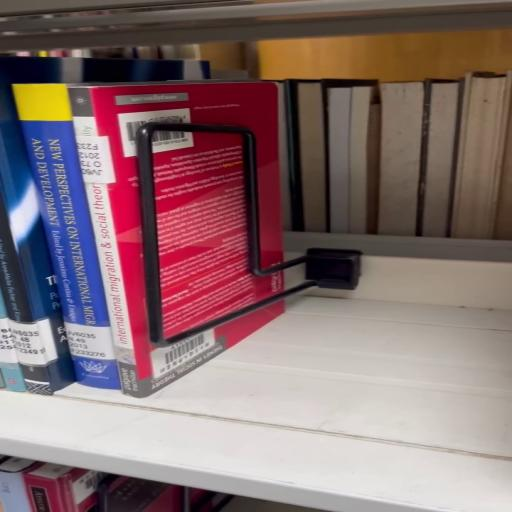reverse: (61, 82, 285, 398)
